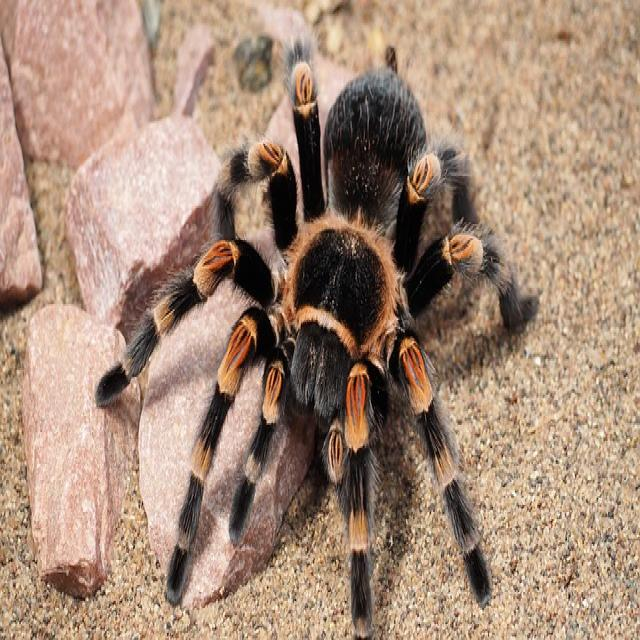spyder: (99, 42, 536, 637)
